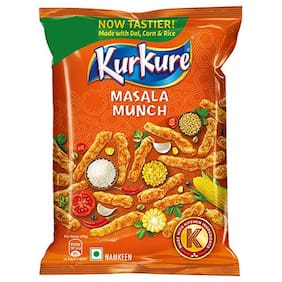kurkure: (84, 41, 197, 87)
plastic: (29, 1, 257, 282)
wrapper: (48, 11, 225, 269)
